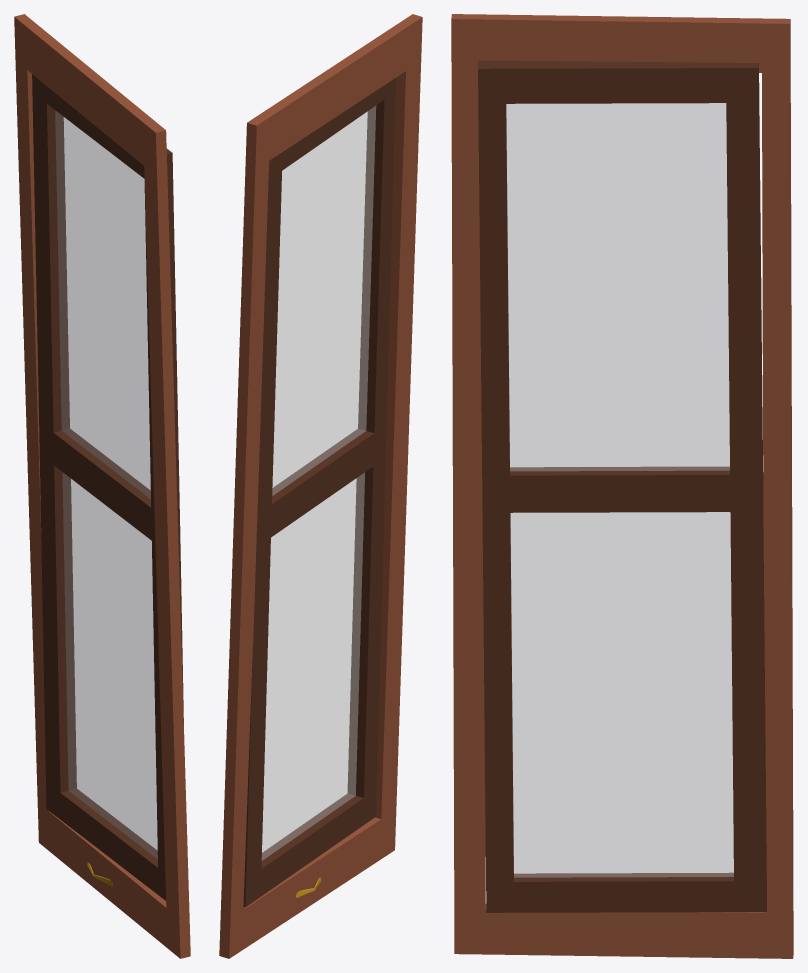
Rendered from SM_Jendela_panjang_1(Raihan).fbx.
3 views of the same model, side by side, from view 1: azimuth 30°, elevation 25°; view 2: azimuth 150°, elevation 25°; view 3: azimuth 270°, elevation 25° (orthographic). The views are drawn at different scales.
Visible parts, largest first — view 1: kacajendela 02, bingkai jendela 02, Plane; view 2: kacajendela 02, bingkai jendela 02, Plane; view 3: kacajendela 02, Plane, bingkai jendela 02.
Boxes of the visible parts, <box> form: kacajendela 02: <box>55,110,157,858</box>; bingkai jendela 02: <box>14,14,190,958</box>; Plane: <box>32,74,183,900</box>; kacajendela 02: <box>261,106,376,860</box>; bingkai jendela 02: <box>219,14,422,958</box>; Plane: <box>243,78,395,907</box>; kacajendela 02: <box>506,103,733,877</box>; Plane: <box>478,60,766,912</box>; bingkai jendela 02: <box>451,14,793,958</box>.
Size of the model in its own units: 750 by 12018 by 4040.
